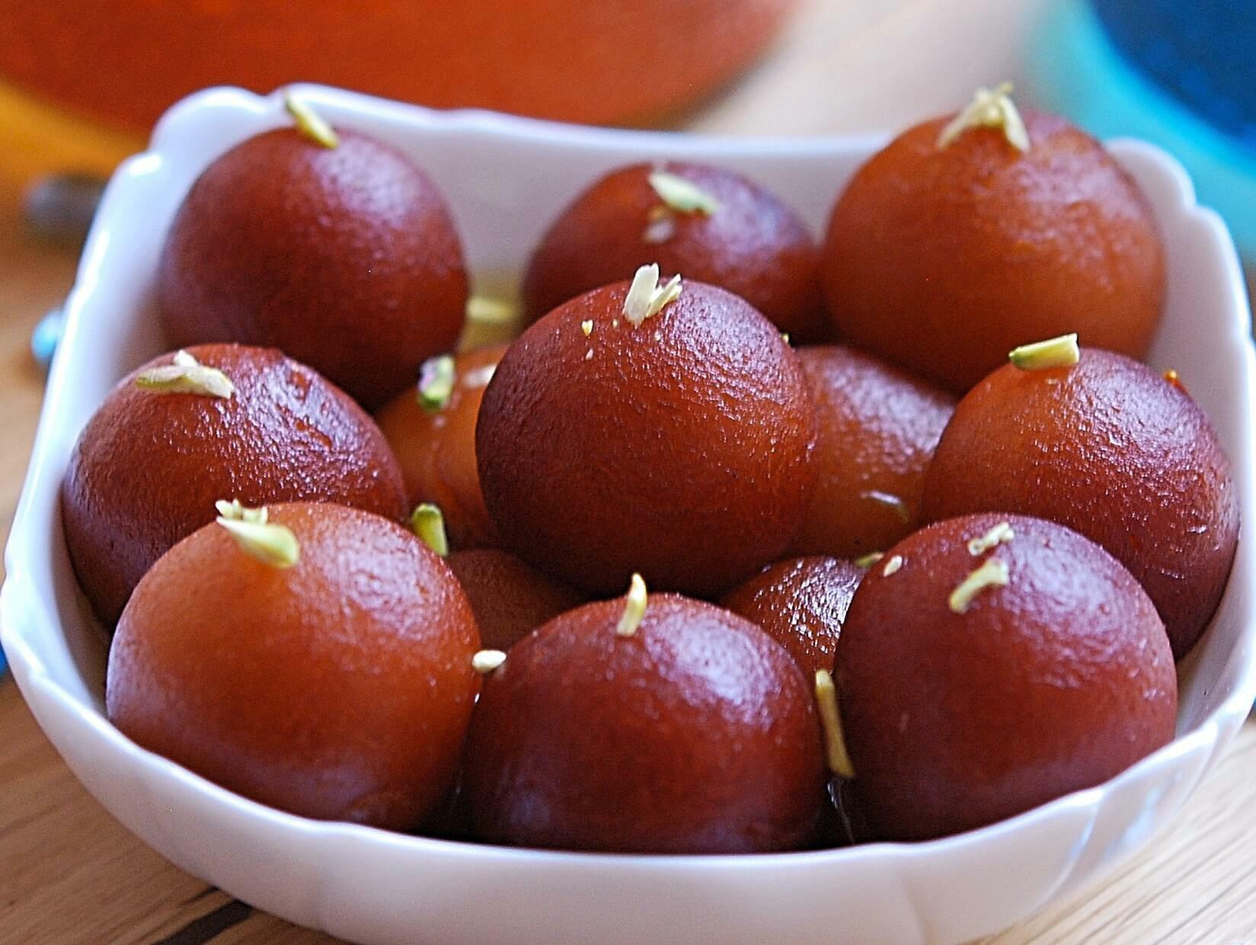GulabJamun: (109, 499, 480, 817), (824, 516, 1179, 838), (471, 263, 815, 591), (819, 82, 1167, 399), (922, 341, 1242, 668), (460, 589, 831, 855), (63, 347, 419, 620), (159, 111, 473, 387), (515, 158, 818, 320), (791, 343, 971, 569), (381, 343, 517, 547), (724, 553, 872, 675), (446, 550, 564, 655)
